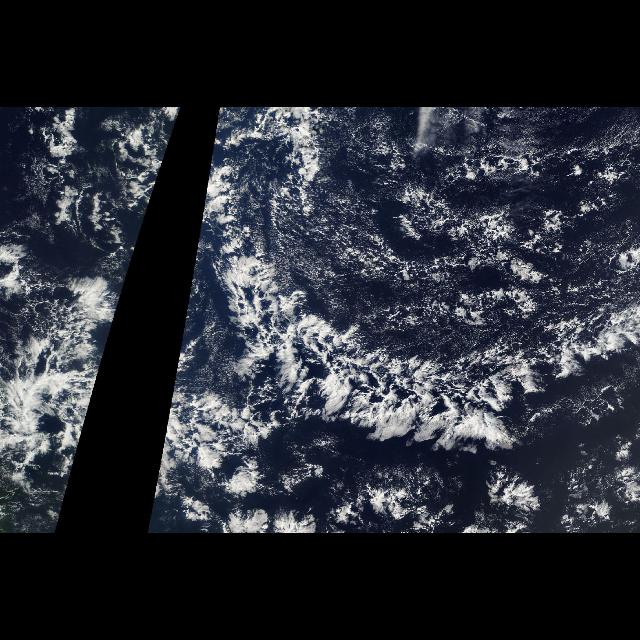Fish: (160, 162, 640, 466)
Flower: (219, 410, 635, 530)
Gravel: (287, 142, 633, 322), (1, 112, 158, 278)
